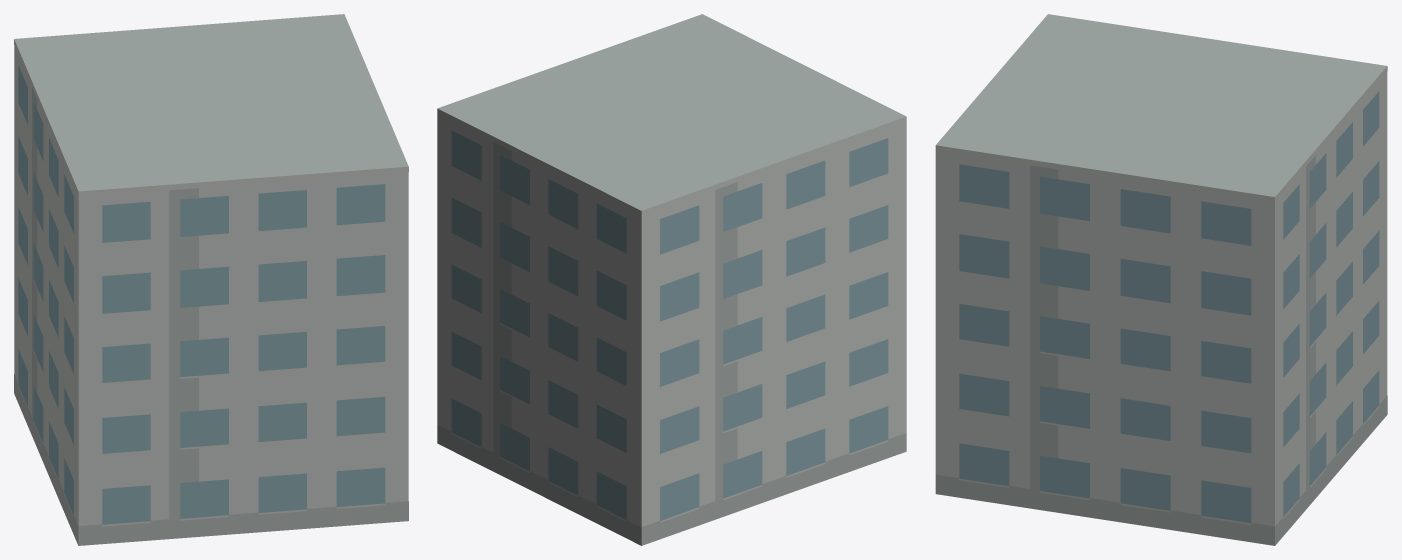
Rendered from residential-fe98014f-ee65-4228-8e0f-162b4df143de.glb.
3 renders of one model, left to right at view 1: azimuth 30°, elevation 25°; view 2: azimuth 150°, elevation 25°; view 3: azimuth 270°, elevation 25°, orthographic. The views are drawn at different scales.
Parts seen in each view (by area): view 1: residential-fe98014f-ee65-4228-8e0f-162b4df143de.tmp; view 2: residential-fe98014f-ee65-4228-8e0f-162b4df143de.tmp; view 3: residential-fe98014f-ee65-4228-8e0f-162b4df143de.tmp.
Part boxes in pixels (bbox=[...]): residential-fe98014f-ee65-4228-8e0f-162b4df143de.tmp: bbox=[14, 14, 408, 545]; residential-fe98014f-ee65-4228-8e0f-162b4df143de.tmp: bbox=[437, 14, 906, 545]; residential-fe98014f-ee65-4228-8e0f-162b4df143de.tmp: bbox=[935, 14, 1387, 545].
Size of the model in its own units: 17.18 by 15.25 by 17.91.
